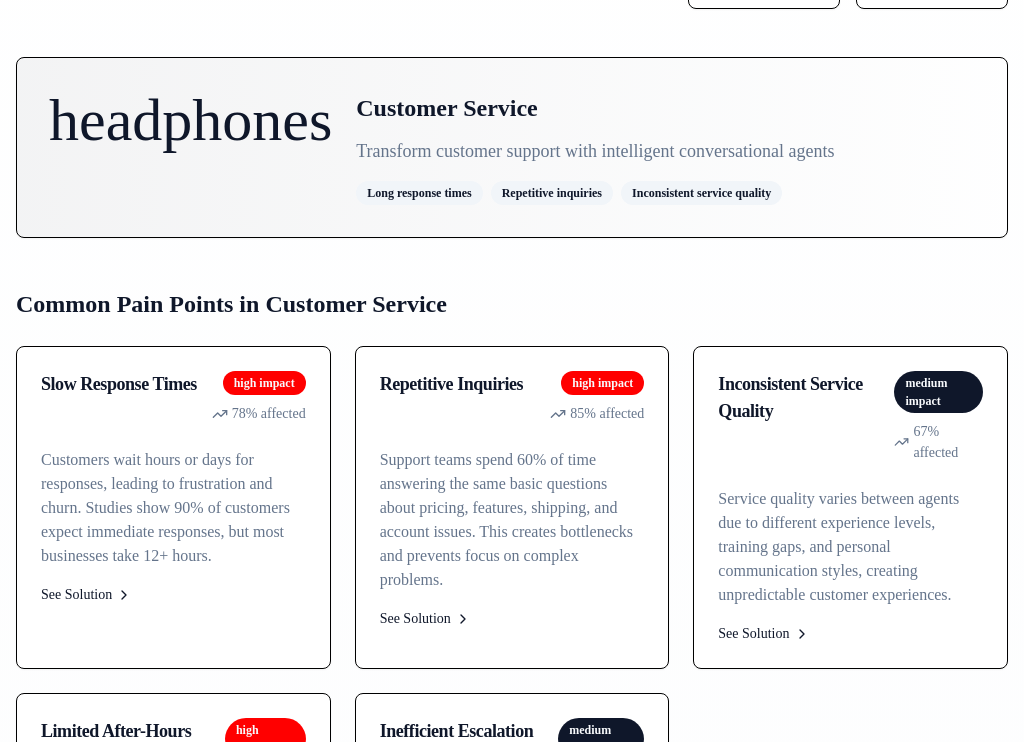
PainPointSolver › shows case study metrics when solution is selected
(page scrolled)
Note: Click on a pain point that has a case study
Click the text "Slow Response Times" at (119, 384), box [41,371,197,398]
(page scrolled)
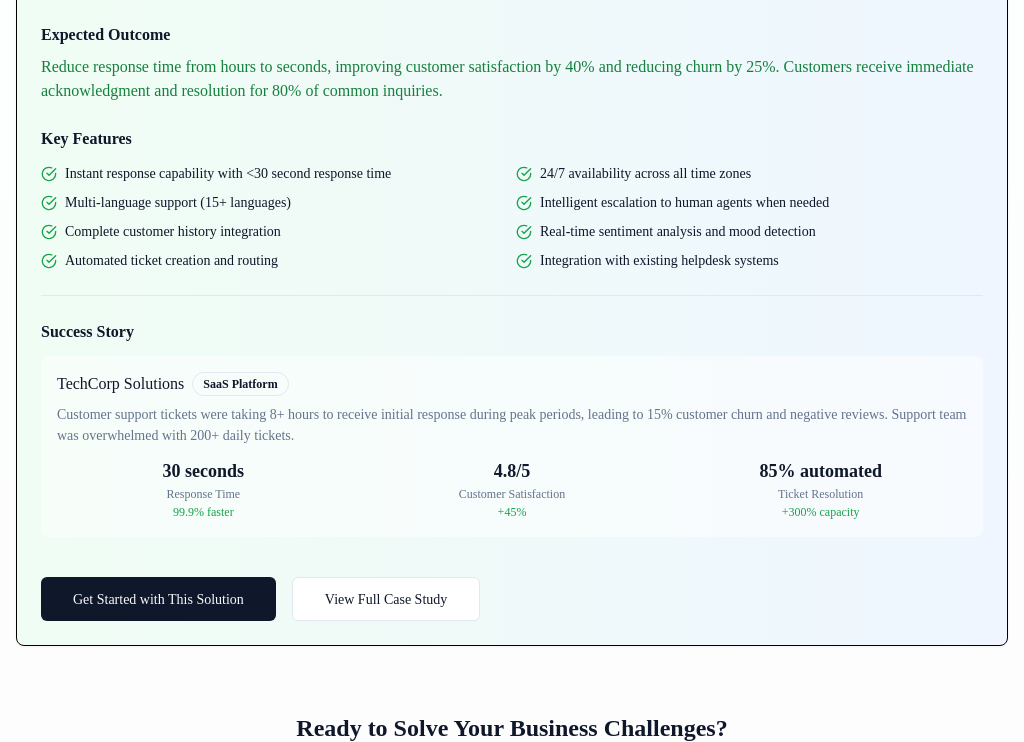
Expected: the heading "Success Story" is shown, [41,323,134,340]
Expected: the text "TechCorp Solutions" is shown, [57,372,184,396]
